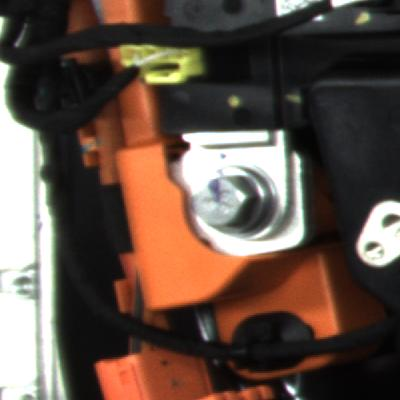nut_b: (188, 157, 288, 246)
